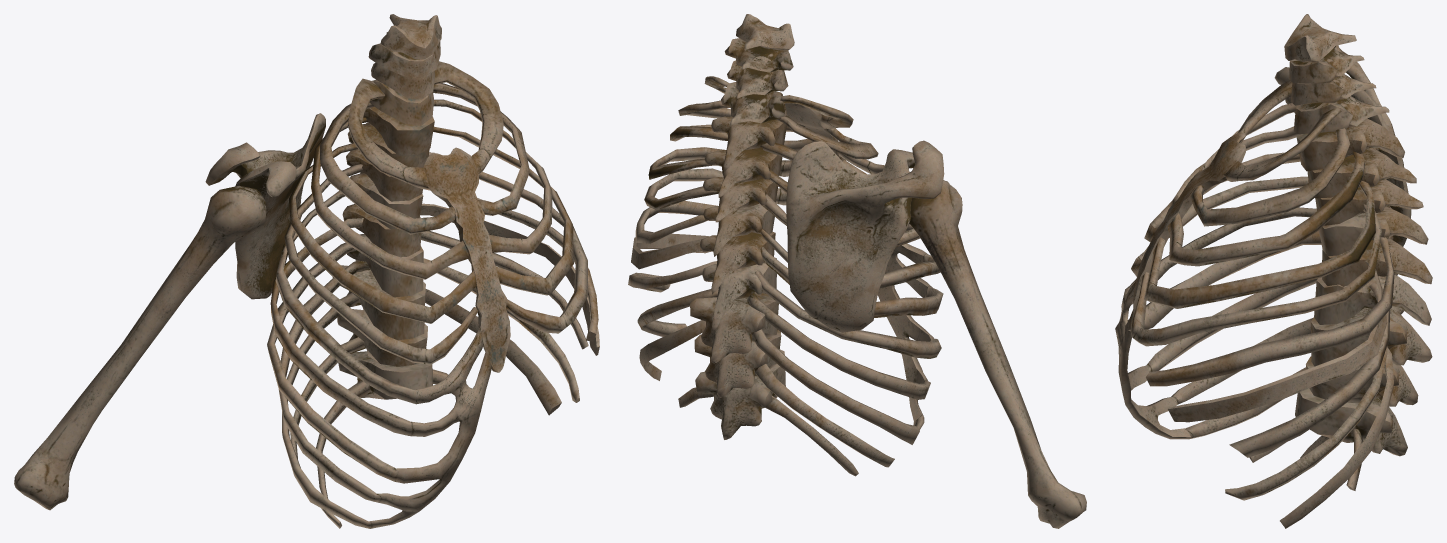
Rendered from bone_ribcage_fractured.DAE.
3 views of the same model, side by side, from view 1: azimuth 30°, elevation 25°; view 2: azimuth 150°, elevation 25°; view 3: azimuth 270°, elevation 25° (orthographic). The views are drawn at different scales.
Visible parts, largest first — view 1: bone_ribcage_fractured; view 2: bone_ribcage_fractured; view 3: bone_ribcage_fractured.
Part boxes in pixels (<box>): bone_ribcage_fractured: <box>14,14,599,528</box>; bone_ribcage_fractured: <box>628,14,1086,528</box>; bone_ribcage_fractured: <box>1115,14,1432,528</box>.
Size of the model in its own units: 19.8 by 17.25 by 10.14.
